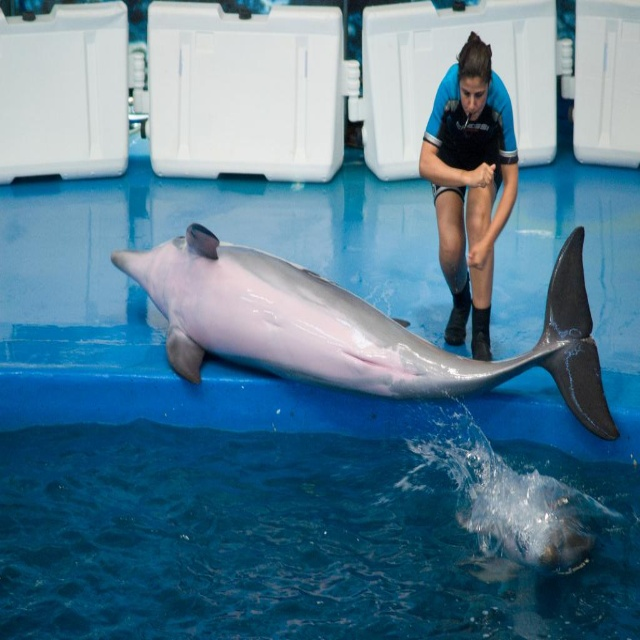Fish: (111, 222, 621, 442)
